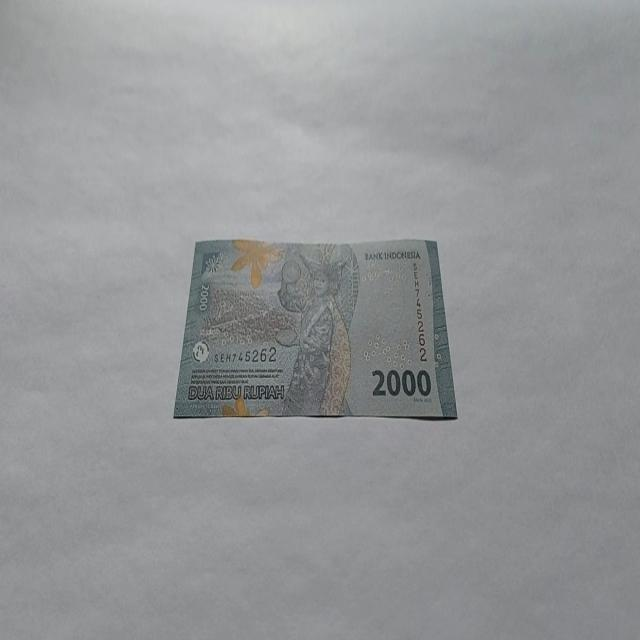dua ribu rupiah: (172, 236, 458, 422), (274, 248, 354, 416)
